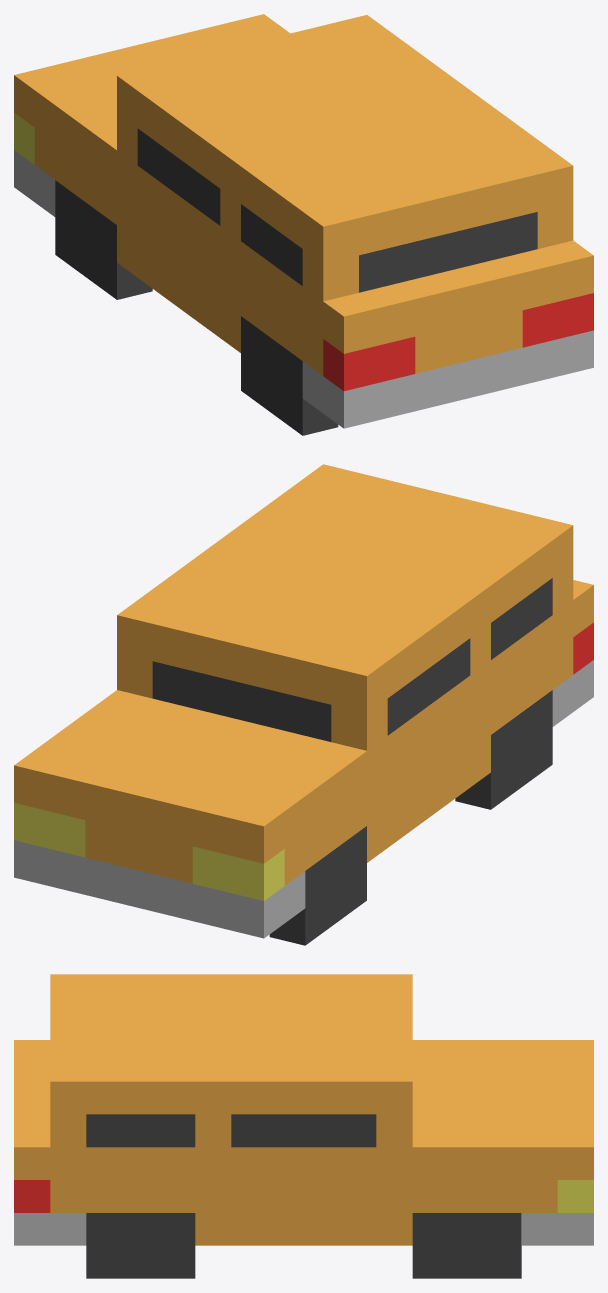
The model's file is cars-4-YellowCar.obj.
The picture shows the model from 3 angles, top to bottom: view 1: azimuth 30°, elevation 25°; view 2: azimuth 150°, elevation 25°; view 3: azimuth 270°, elevation 25°; orthographic projection. The views are drawn at different scales.
Parts seen in each view (by area): view 1: YellowCar; view 2: YellowCar; view 3: YellowCar.
Part boxes in pixels (box(x1,y1,x2,y2)): YellowCar: box(14, 14, 593, 435); YellowCar: box(14, 464, 593, 945); YellowCar: box(14, 974, 593, 1278).
Size of the model in its own units: 0.7 by 0.6 by 1.6.
1 material, 1 textured.
